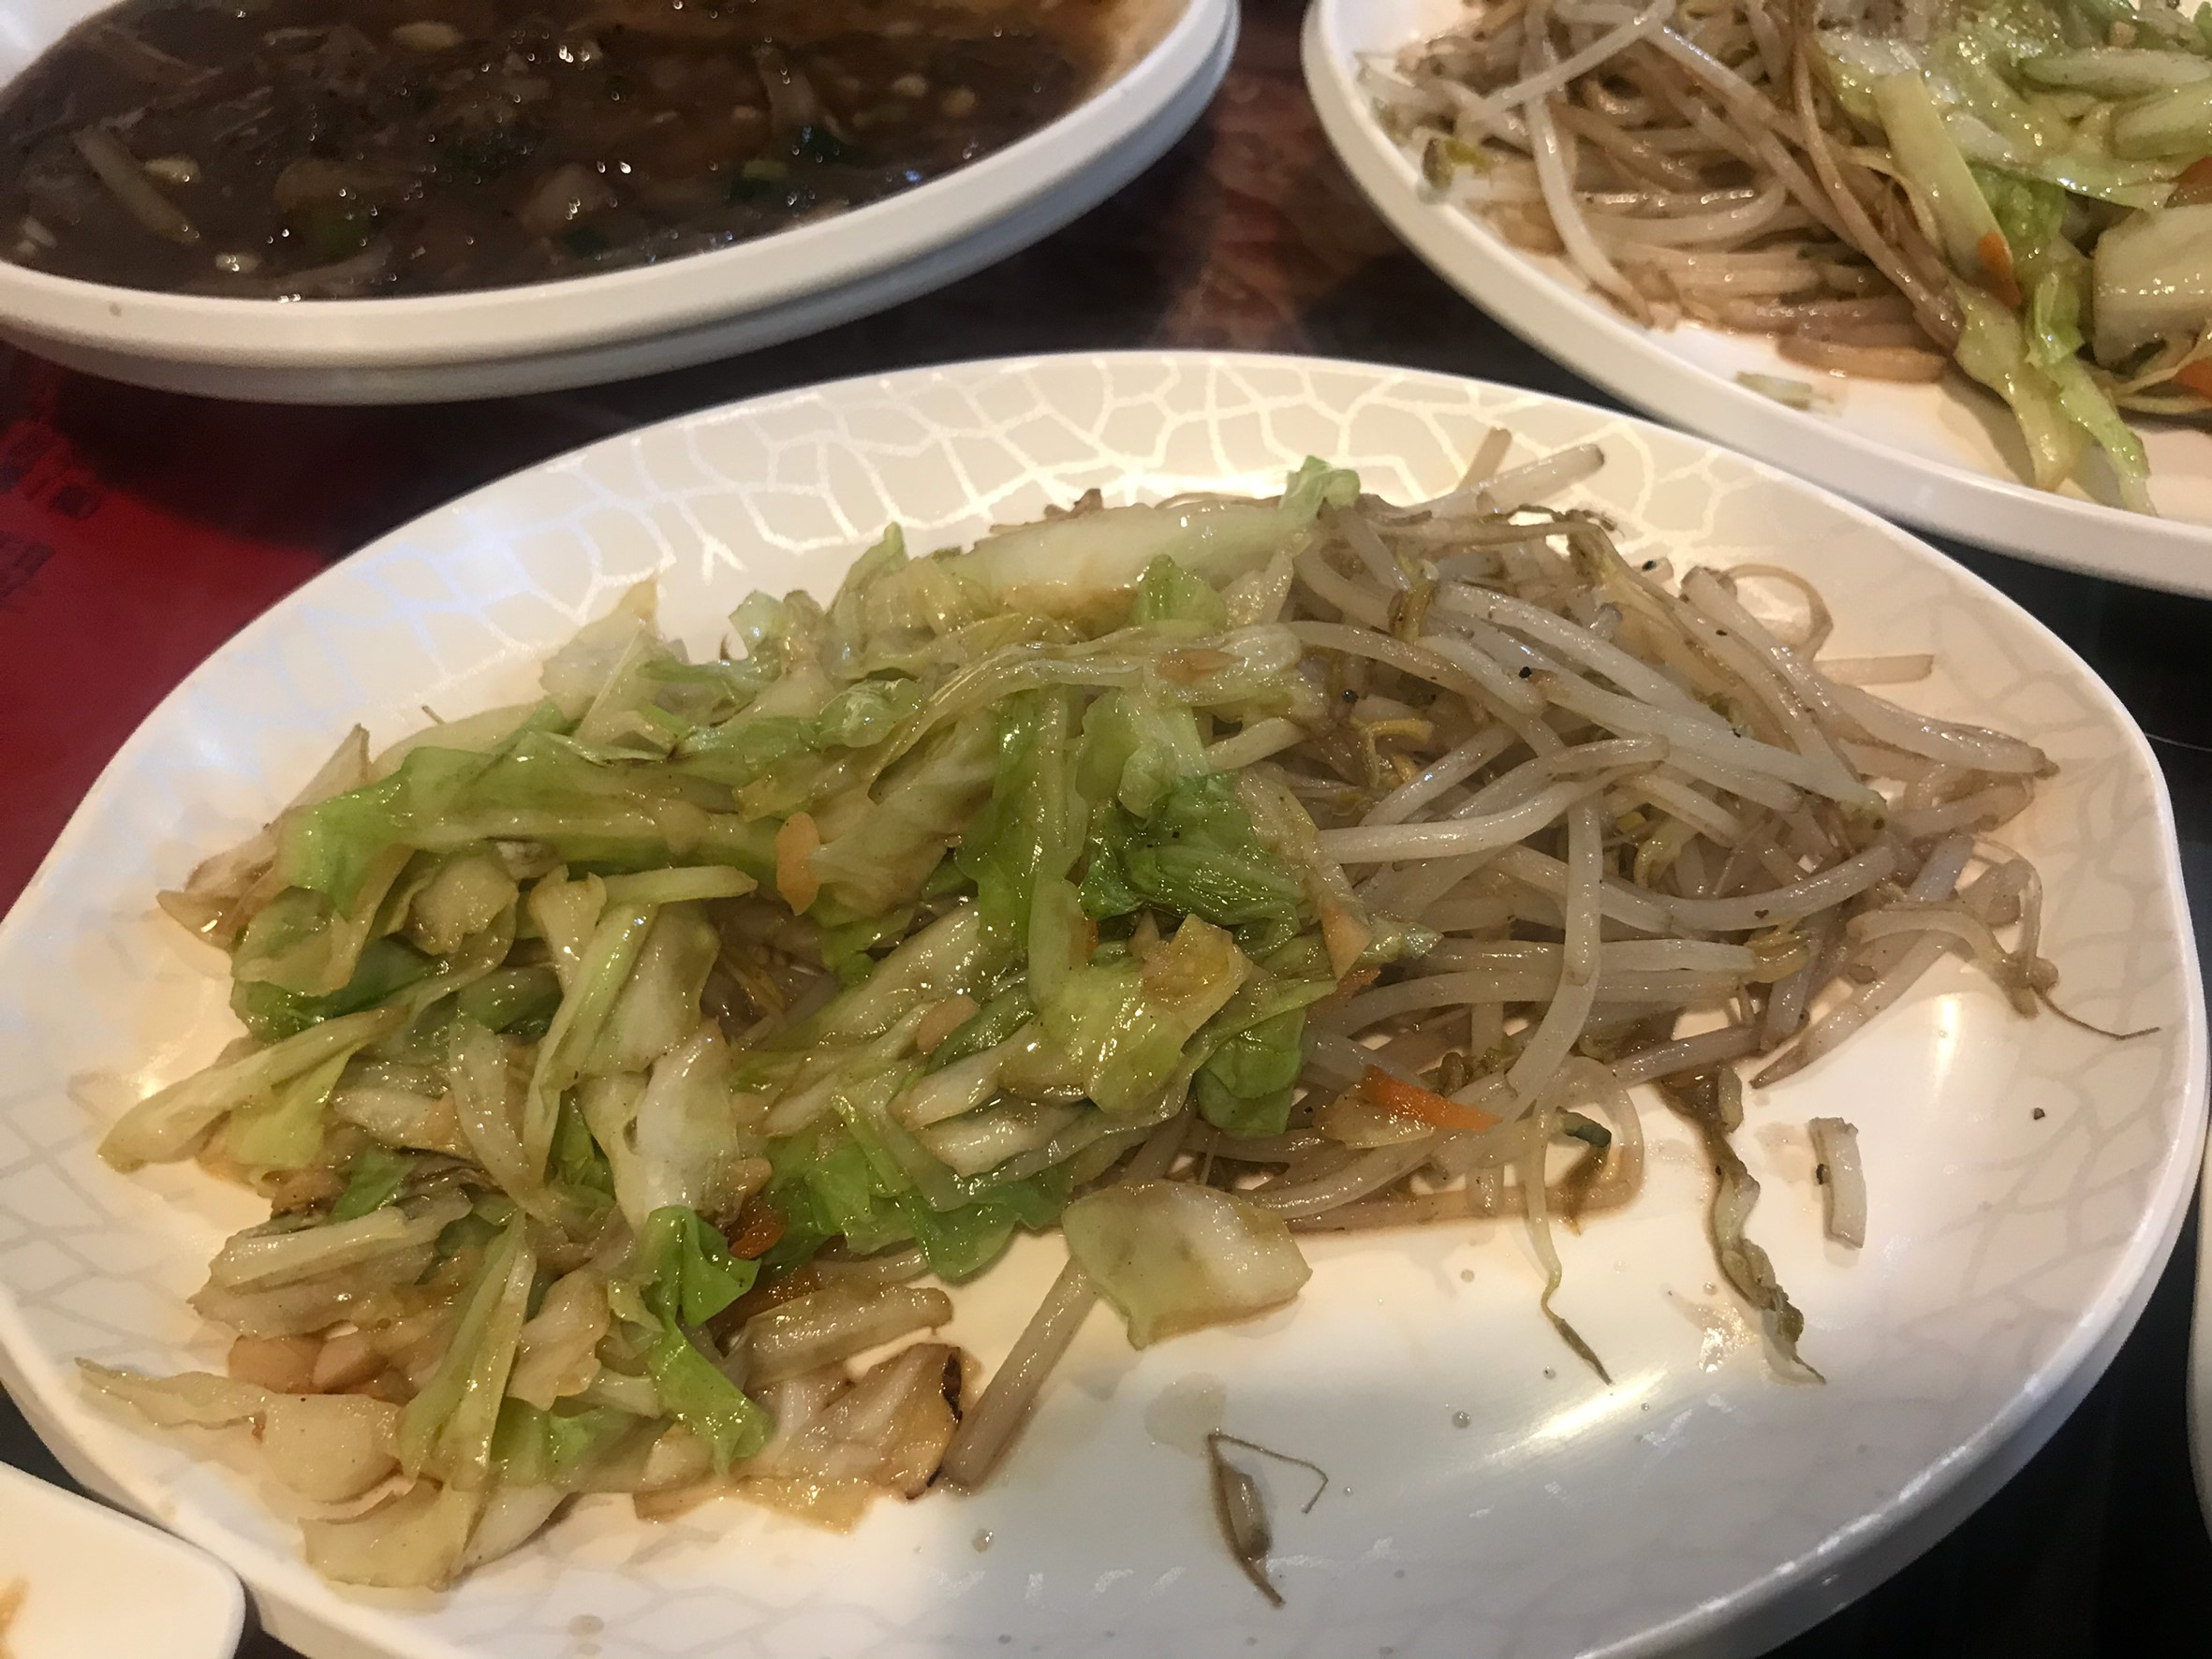chinese_cabbage: (209, 479, 1292, 1518), (1877, 2, 2212, 434)
mung_bean_sprouts: (1272, 436, 2069, 1236), (1386, 3, 1879, 359)
